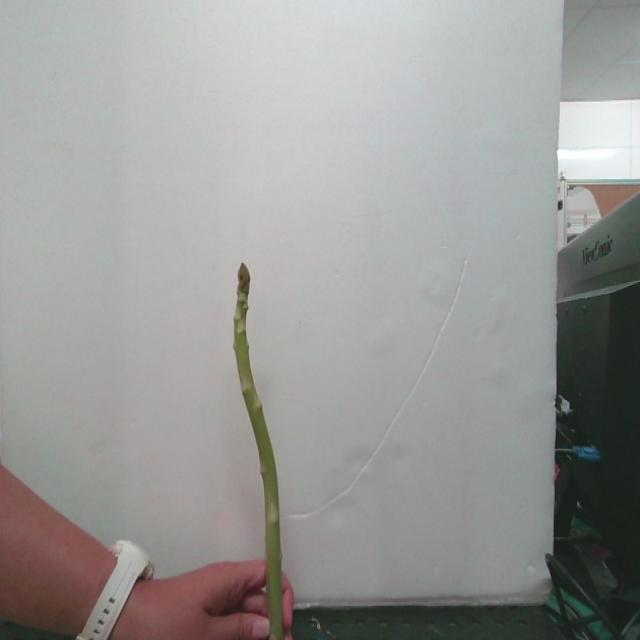aspargus: (232, 265, 287, 640)
